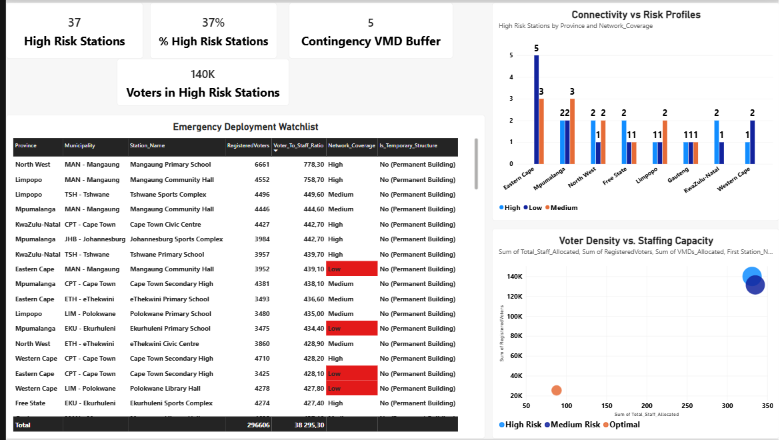

The dashboard page shown, as its layout file describes it:
{"tool":"powerbi","page":{"name":"Operational Risk & Contingency Heatmap","canvas":[1920,1080],"ordinal":2},"visuals":[{"type":"card","fields":{"Values":["voting_stations_master.% High Risk Stations"]},"box":[357.1,0,314.9,138.9],"z":0},{"type":"card","fields":{"Values":["voting_stations_master.High Risk Stations"]},"box":[0,0,339.7,138.9],"z":1},{"type":"card","fields":{"Values":["voting_stations_master.Contingency VMD Buffer"]},"box":[701.7,0,406.6,138.9],"z":2},{"type":"card","fields":{"Values":["voting_stations_master.Voters in High Risk Stations"]},"box":[275.2,138.9,426.5,116.5],"z":3},{"type":"scatterChart","title":"Voter Density vs. Staffing Capacity","fields":{"X":["Sum(df_base.Total_Staff_Allocated)"],"Y":["Sum(df_base.RegisteredVoters)"],"Size":["Sum(df_base.VMDs_Allocated)"],"Series":["df_base.Operational_Risk_Tier"]},"box":[1205.1,560.4,714.1,520.7],"z":4},{"type":"clusteredColumnChart","title":"Connectivity vs Risk Profiles","fields":{"Category":["df_base.Province"],"Y":["voting_stations_master.High Risk Stations"],"Series":["df_base.Network_Coverage"]},"box":[1205.1,0,714.1,540.5],"z":5},{"type":"tableEx","title":"Emergency Deployment Watchlist","fields":{"Values":["df_base.Province","df_base.Municipality","df_base.Station_Name","Sum(df_base.RegisteredVoters)","Sum(df_base.Voter_To_Staff_Ratio)","voting_stations_master.Network_Coverage","df_base.Is_Temporary_Structure"]},"box":[0,277.7,1187.7,803.4],"z":6}]}

Visuals, with their boxes in screenshot pixels (x1, y1, x2, y2), scaled from the page's 1920x1080 canvas onto the 779x440 screenshot:
card - voting_stations_master.% High Risk Stations: 145 0 273 57
card - voting_stations_master.High Risk Stations: 0 0 138 57
card - voting_stations_master.Contingency VMD Buffer: 285 0 450 57
card - voting_stations_master.Voters in High Risk Stations: 112 57 285 104
"Voter Density vs. Staffing Capacity" scatterChart: 489 228 778 439
"Connectivity vs Risk Profiles" clusteredColumnChart: 489 0 778 220
"Emergency Deployment Watchlist" tableEx: 0 113 482 439
